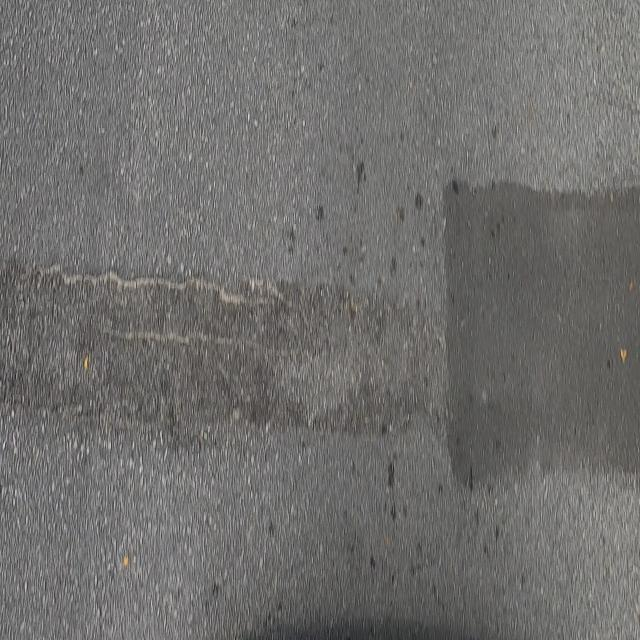Retak-Melintang: (28, 262, 276, 312), (95, 318, 309, 361)
